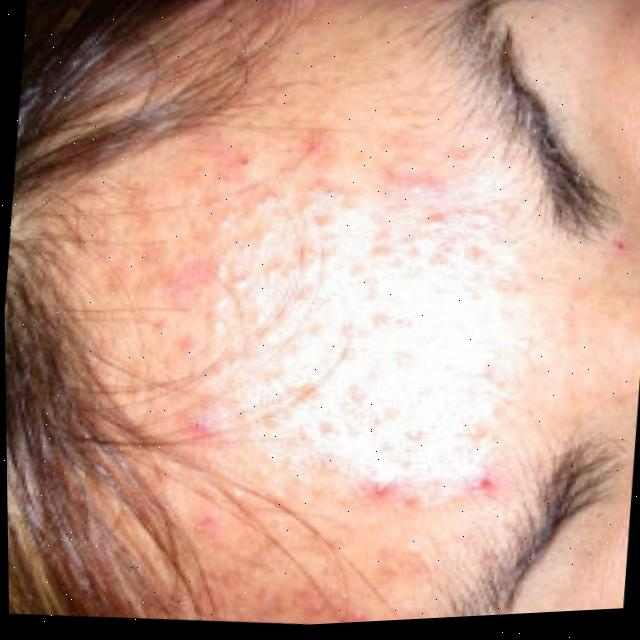Acne: (148, 103, 478, 463)
